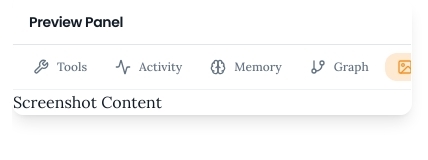
Test: PreviewPanel › tab switching › should switch tabs when clicked
The width and height of the screenshot is (428, 160).
Expected: the text "Screenshot Content" is shown, [13,92,162,112]
// Click Activity tab
What coordinates should you click on to do the following:
click the button "Activity"
I would click on:
 (149, 67)
Its box is [103,53,194,81].
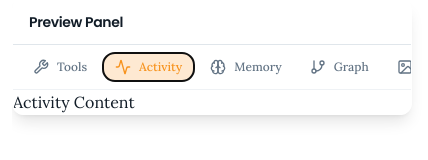
Result: the text "Activity Content" is shown at [13,92,135,112]
